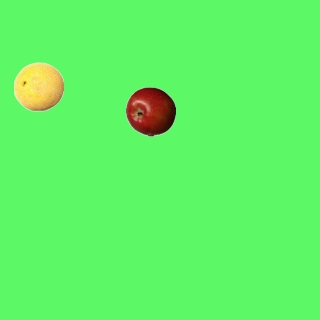Apple Braeburn: (125, 86, 175, 136)
Cantaloupe 1: (13, 61, 63, 111)
